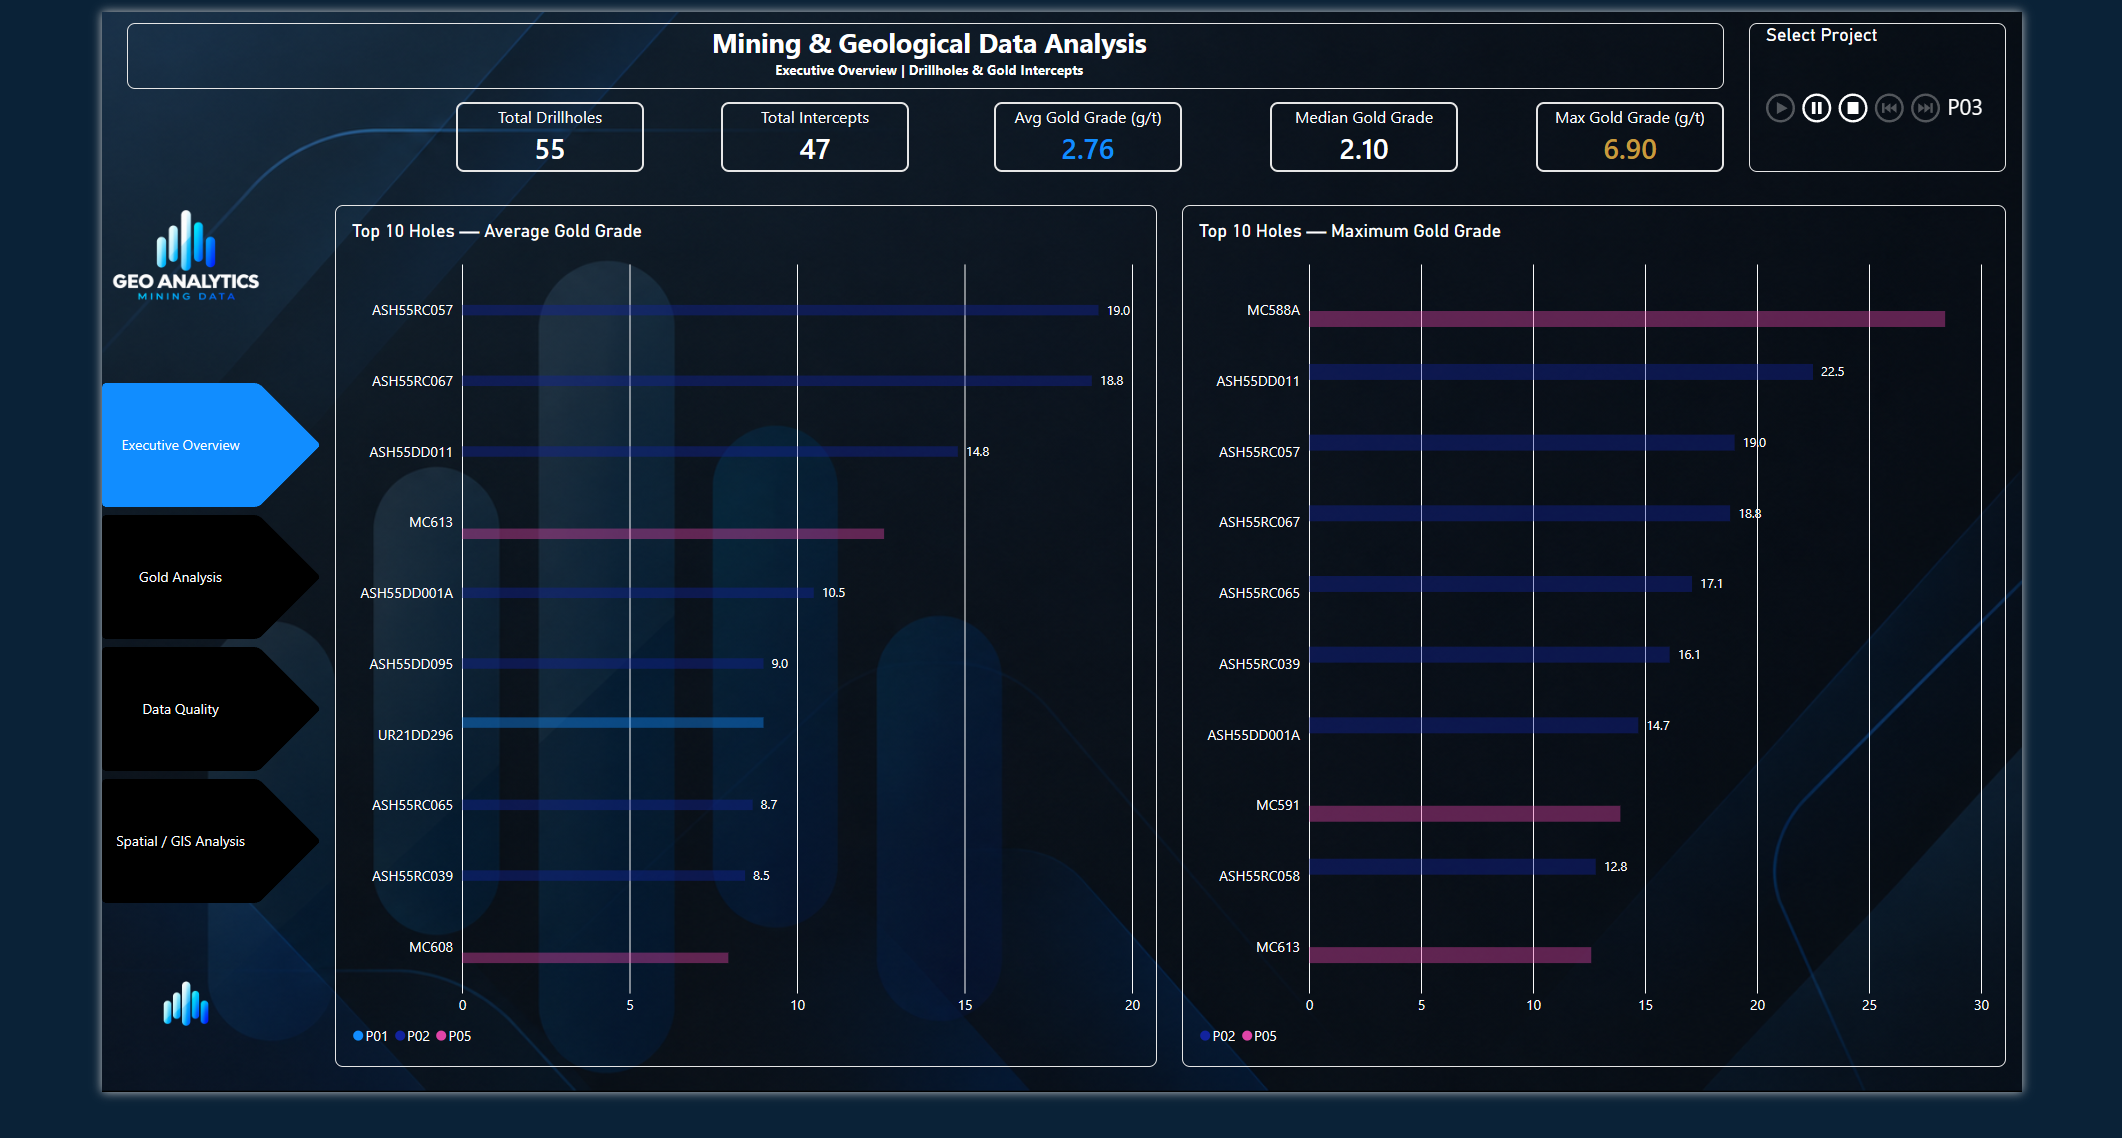

The dashboard page shown, as its layout file describes it:
{"tool":"powerbi","page":{"name":"Executive Overview","canvas":[1920,1080],"ordinal":0},"visuals":[{"type":"cardVisual","fields":{"Data":["Count(mining_geology_project drillholes.Collar_Record_ID)"]},"box":[0,58.6,241.8,70],"z":0},{"type":"cardVisual","fields":{"Data":["Count(mining_geology_project intercepts.Intercept_ID)"]},"box":[232.6,58.9,240.5,69.7],"z":1000},{"type":"cardVisual","fields":{"Data":["Max(mining_geology_project intercepts.Au_g_t)"]},"box":[932.2,58.6,245.9,70],"z":2000},{"type":"cardVisual","fields":{"Data":["Avg(mining_geology_project intercepts.Au_g_t)"]},"box":[460.4,58.9,256.2,69.7],"z":3000},{"type":"PBI_CV_16948668_E17D_454B_8664_2F2C470EA8C1","title":"Select Project","fields":{"category":["mining_geology_project drillholes.Project_ID"]},"box":[1178.1,0,741.9,128.6],"z":4000},{"type":"cardVisual","fields":{"Data":["mining_geology_project intercepts.Median Gold Grade"]},"box":[704.8,58.9,237.5,69.7],"z":5000},{"type":"clusteredBarChart","title":"Top 10 Holes — Average Gold Grade","fields":{"Category":["mining_geology_project drillholes.Hole_ID"],"Series":["mining_geology_project intercepts.Project_ID"],"Y":["Avg(mining_geology_project intercepts.Au_g_t)"]},"box":[0,121.4,950.7,959],"z":6000},{"type":"clusteredBarChart","title":"Top 10 Holes — Maximum Gold Grade","fields":{"Category":["mining_geology_project drillholes.Hole_ID"],"Series":["mining_geology_project intercepts.Project_ID"],"Y":["Max(mining_geology_project intercepts.Au_g_t)"]},"box":[950.7,121.4,969.3,959],"z":7000},{"type":"textbox","box":[0,0,1177.9,58.9],"z":8000}]}

Visuals, with their boxes on the page's 1920x1080 design canvas (x1, y1, x2, y2). These are canvas units, not pixel positions in the 2122x1138 screenshot, which may show the page scaled, cropped or inside an application window:
cardVisual - Count(mining_geology_project drillholes.Collar_Record_ID): (left=0, top=59, right=242, bottom=129)
cardVisual - Count(mining_geology_project intercepts.Intercept_ID): (left=233, top=59, right=473, bottom=129)
cardVisual - Max(mining_geology_project intercepts.Au_g_t): (left=932, top=59, right=1178, bottom=129)
cardVisual - Avg(mining_geology_project intercepts.Au_g_t): (left=460, top=59, right=717, bottom=129)
"Select Project" PBI_CV_16948668_E17D_454B_8664_2F2C470EA8C1: (left=1178, top=0, right=1920, bottom=129)
cardVisual - mining_geology_project intercepts.Median Gold Grade: (left=705, top=59, right=942, bottom=129)
"Top 10 Holes — Average Gold Grade" clusteredBarChart: (left=0, top=121, right=951, bottom=1080)
"Top 10 Holes — Maximum Gold Grade" clusteredBarChart: (left=951, top=121, right=1920, bottom=1080)
textbox: (left=0, top=0, right=1178, bottom=59)
